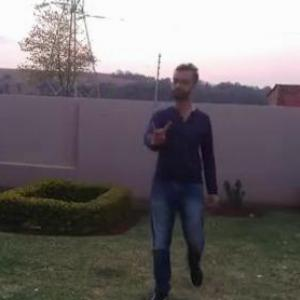takeoff-hand: (148, 112, 174, 149)
